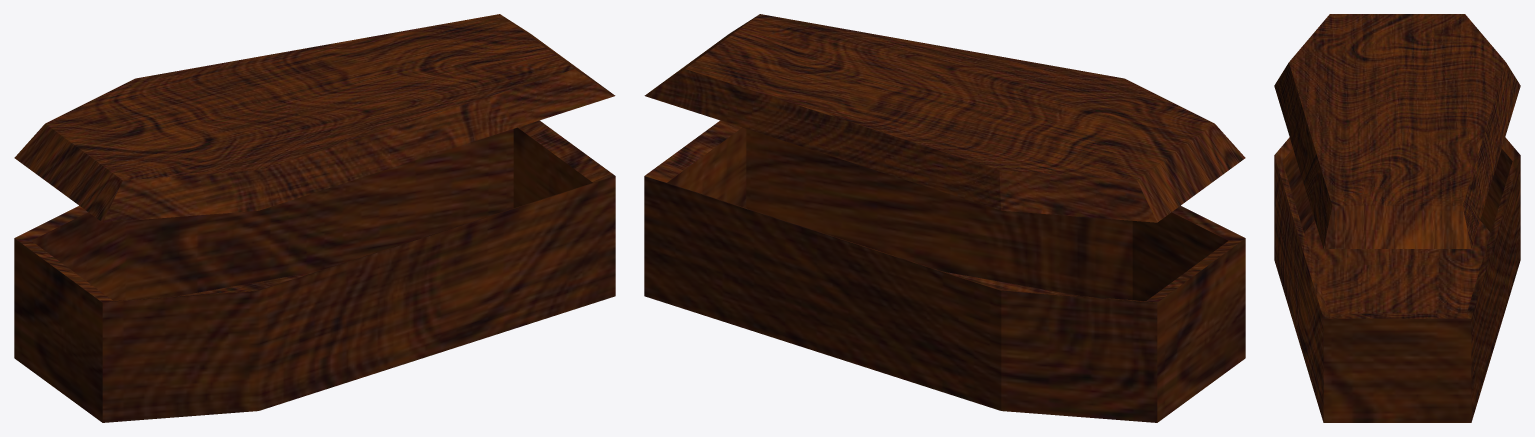
Rendered from coffin.dae.
3 views of the same model, side by side, from view 1: azimuth 30°, elevation 25°; view 2: azimuth 150°, elevation 25°; view 3: azimuth 270°, elevation 25° (orthographic). The views are drawn at different scales.
Parts seen in each view (by area): view 1: Plane, Plane_001; view 2: Plane, Plane_001; view 3: Plane_001, Plane.
Part boxes in pixels (left/top/right/bottom): Plane: left=14, top=120, right=615, bottom=422; Plane_001: left=14, top=14, right=615, bottom=222; Plane: left=644, top=120, right=1245, bottom=422; Plane_001: left=644, top=14, right=1245, bottom=222; Plane_001: left=1274, top=14, right=1520, bottom=248; Plane: left=1274, top=137, right=1520, bottom=422.
Bounding box in the file's own units: 6.72 × 3.21 × 2.9.
Materials: 1 (1 with a texture image).
